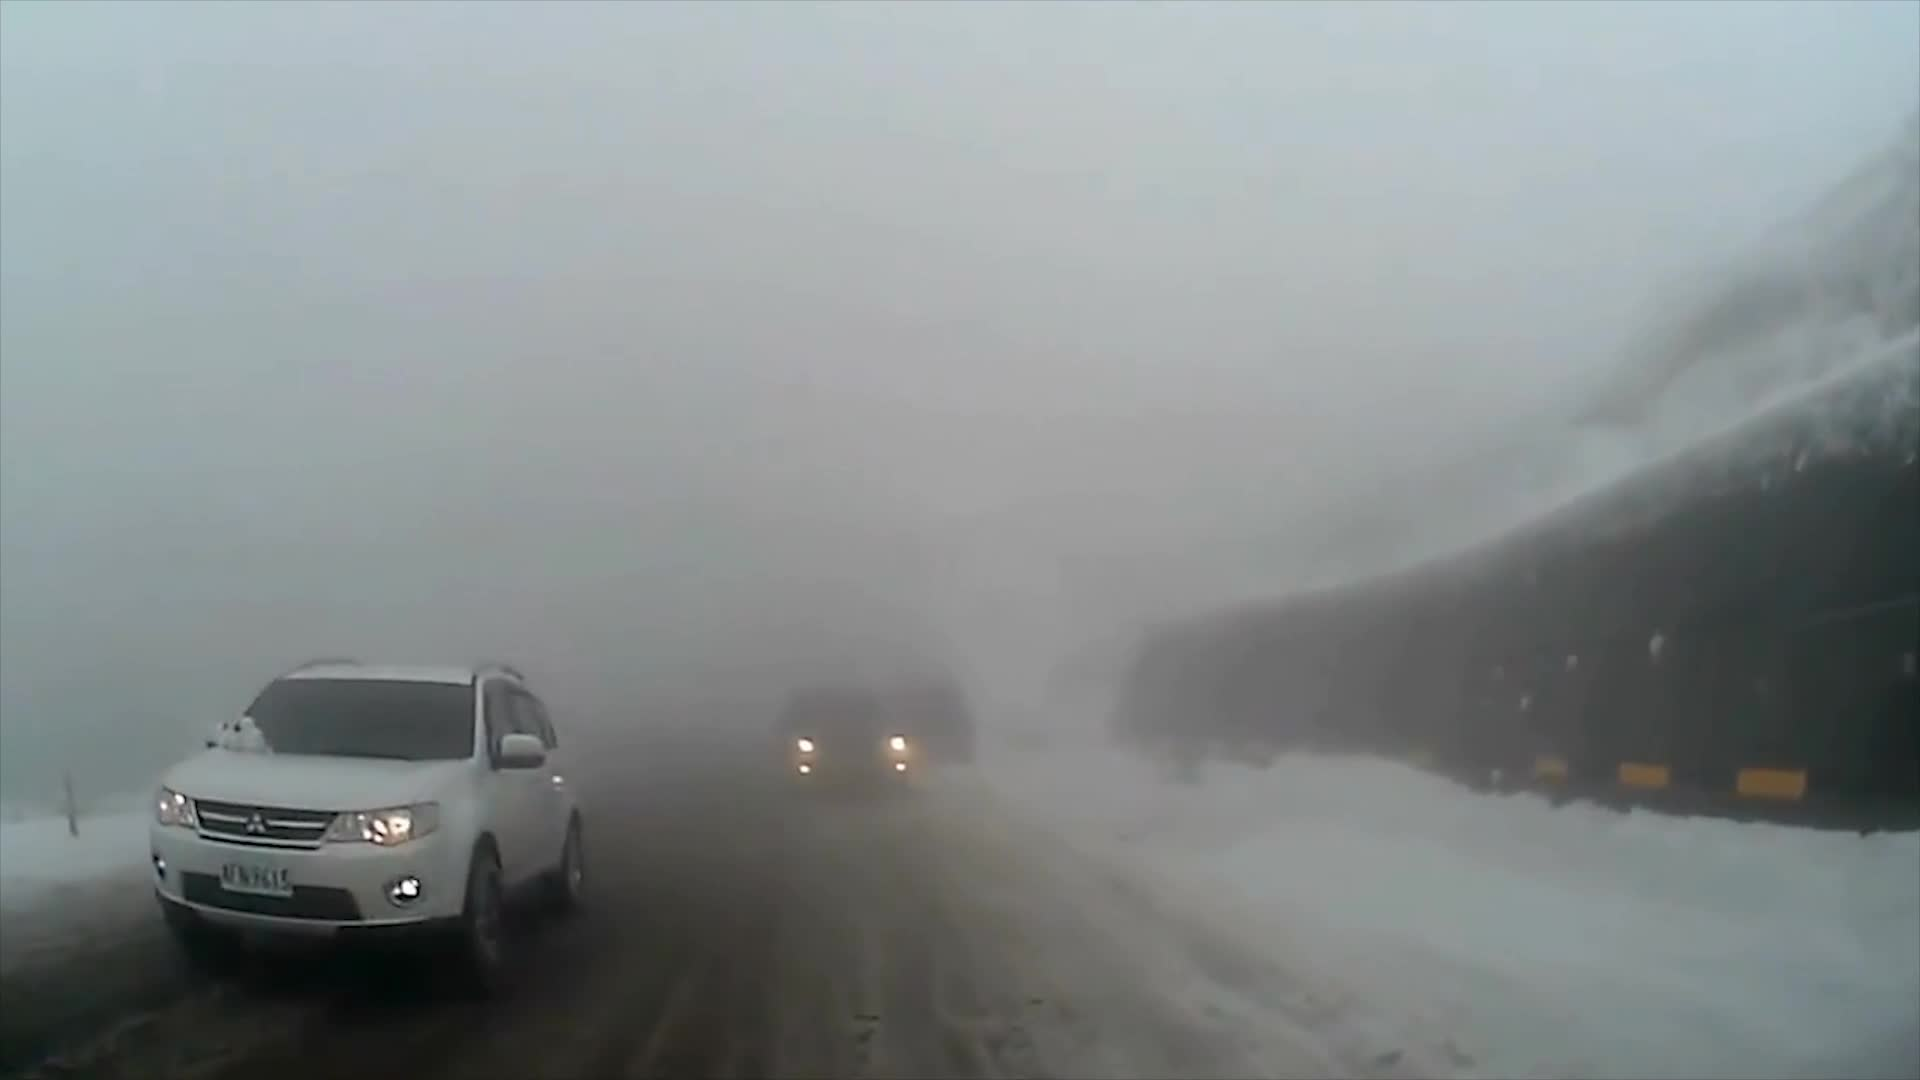vehicle: (144, 654, 585, 982), (771, 683, 914, 800)
